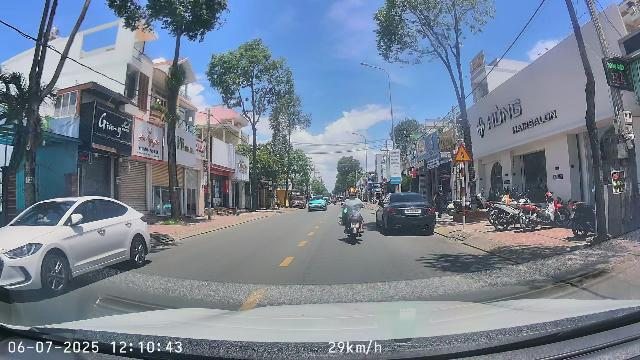209-giao-nhau-co-tin-hieu-den: (454, 144, 471, 162)
